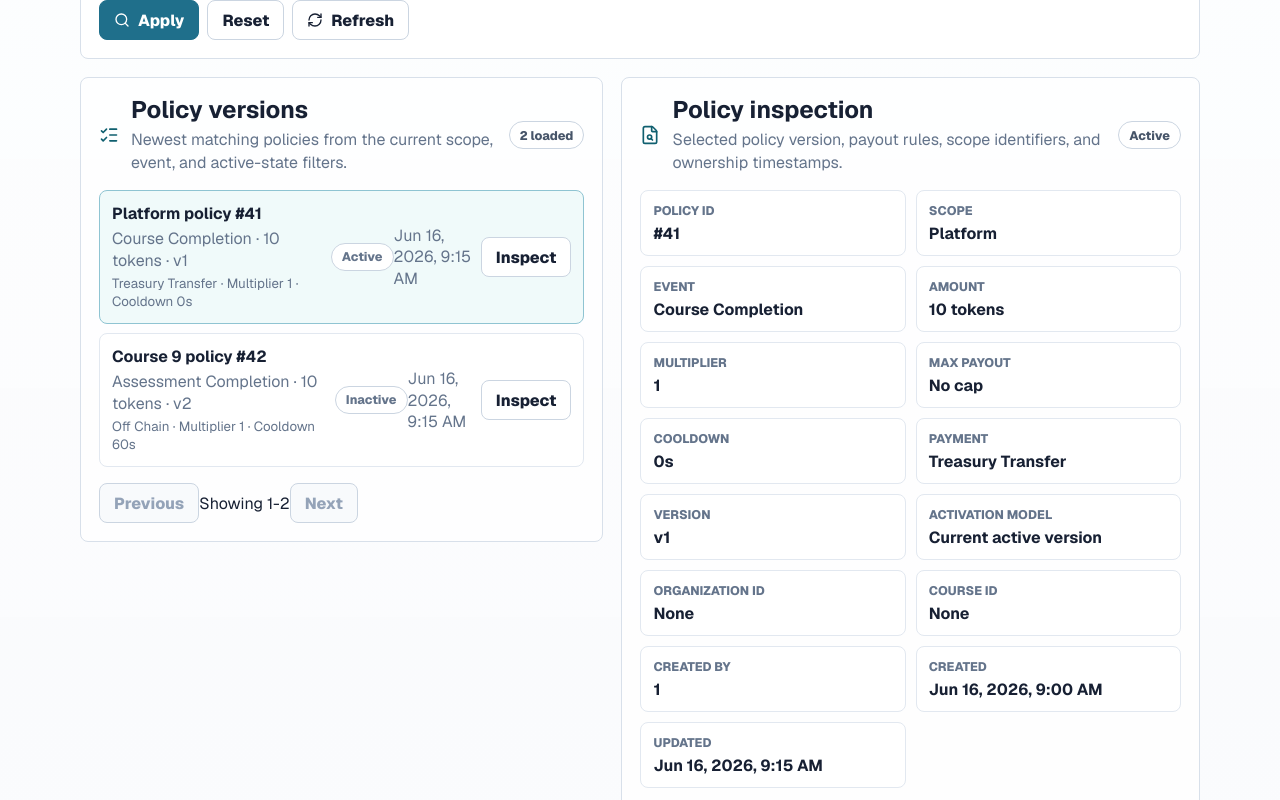
Test case: AdminRewardPoliciesRoute › inspects a selected policy version from the loaded list
(page scrolled)
Expected: the text "#41" is shown, 653,223 -> 680,244
Click the button with aria-label "Inspect policy #42": (526, 400) 481,380 -> 572,420
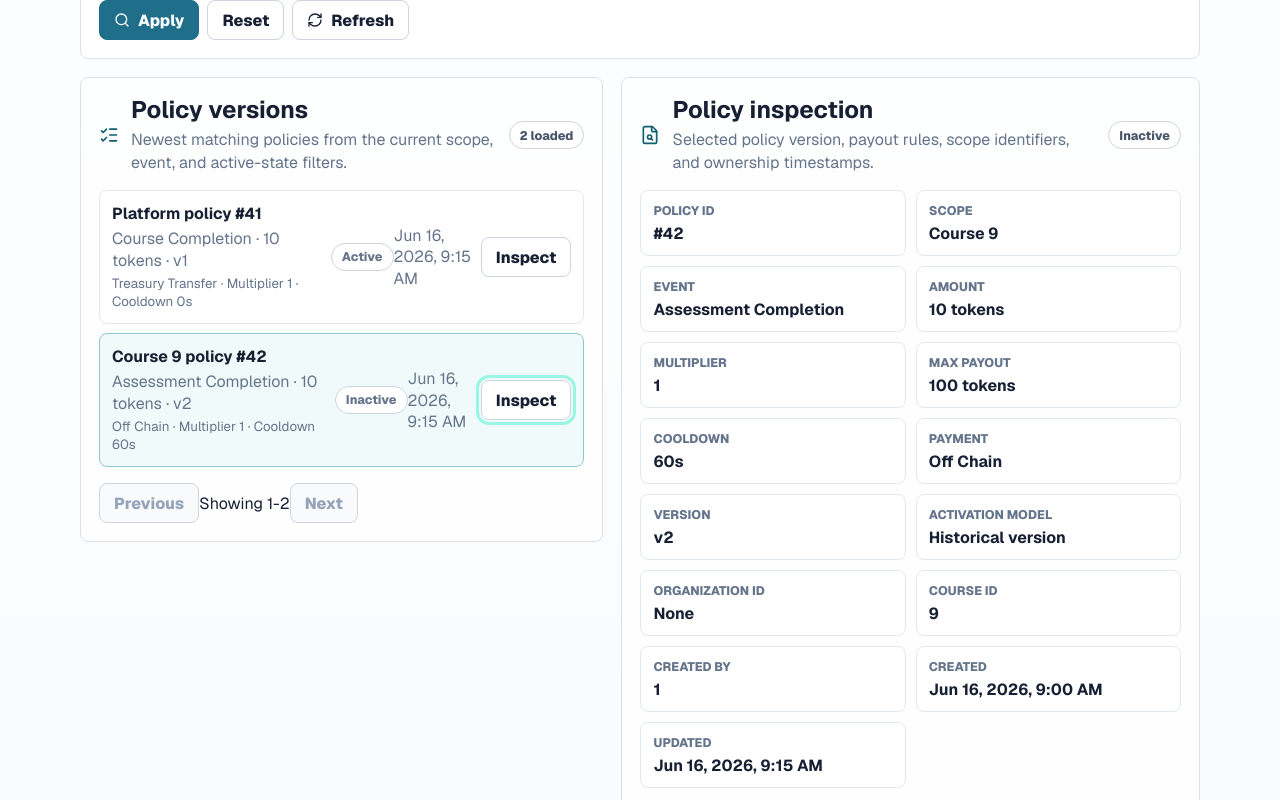
Result: the text "#42" is shown at 653,223 -> 684,244
Result: the text "Course 9" is shown at 929,223 -> 998,244
Result: the text "Assessment Completion" is shown at 653,299 -> 844,320
